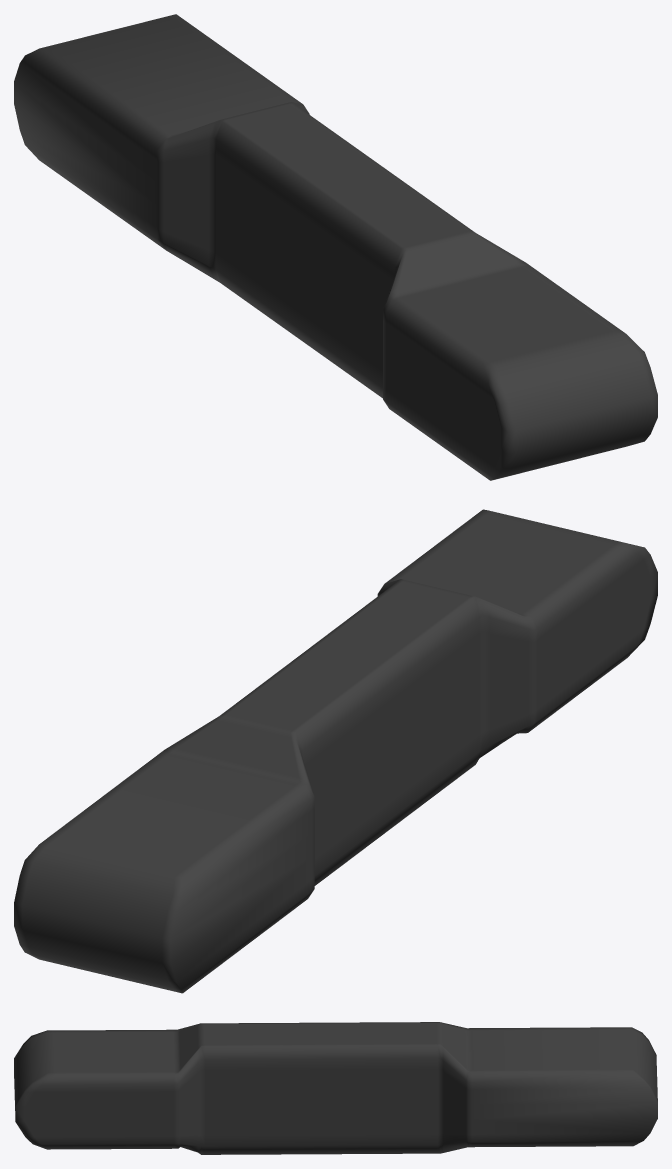
3 views of the same model, one above another, from view 1: azimuth 30°, elevation 25°; view 2: azimuth 150°, elevation 25°; view 3: azimuth 270°, elevation 25° (orthographic). The views are drawn at different scales.
Parts seen in each view (by area): view 1: link2; view 2: link2; view 3: link2.
Boxes of the visible parts, x1,y1,x2,y2 form: link2: [14, 14, 657, 480]; link2: [14, 509, 657, 993]; link2: [14, 1022, 657, 1154].
Size of the model in its own units: 0.7131 by 3.7 by 0.6865.
1 material, 1 textured.
